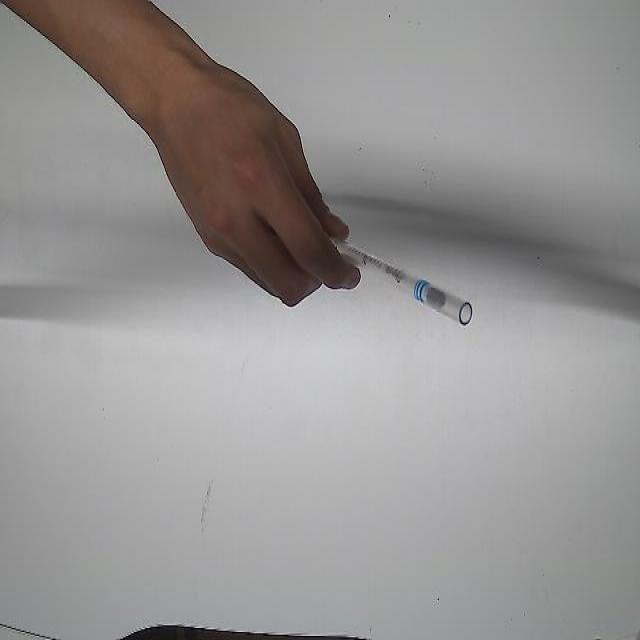Serelogical Pipet 5 mL: (316, 222, 479, 341)
